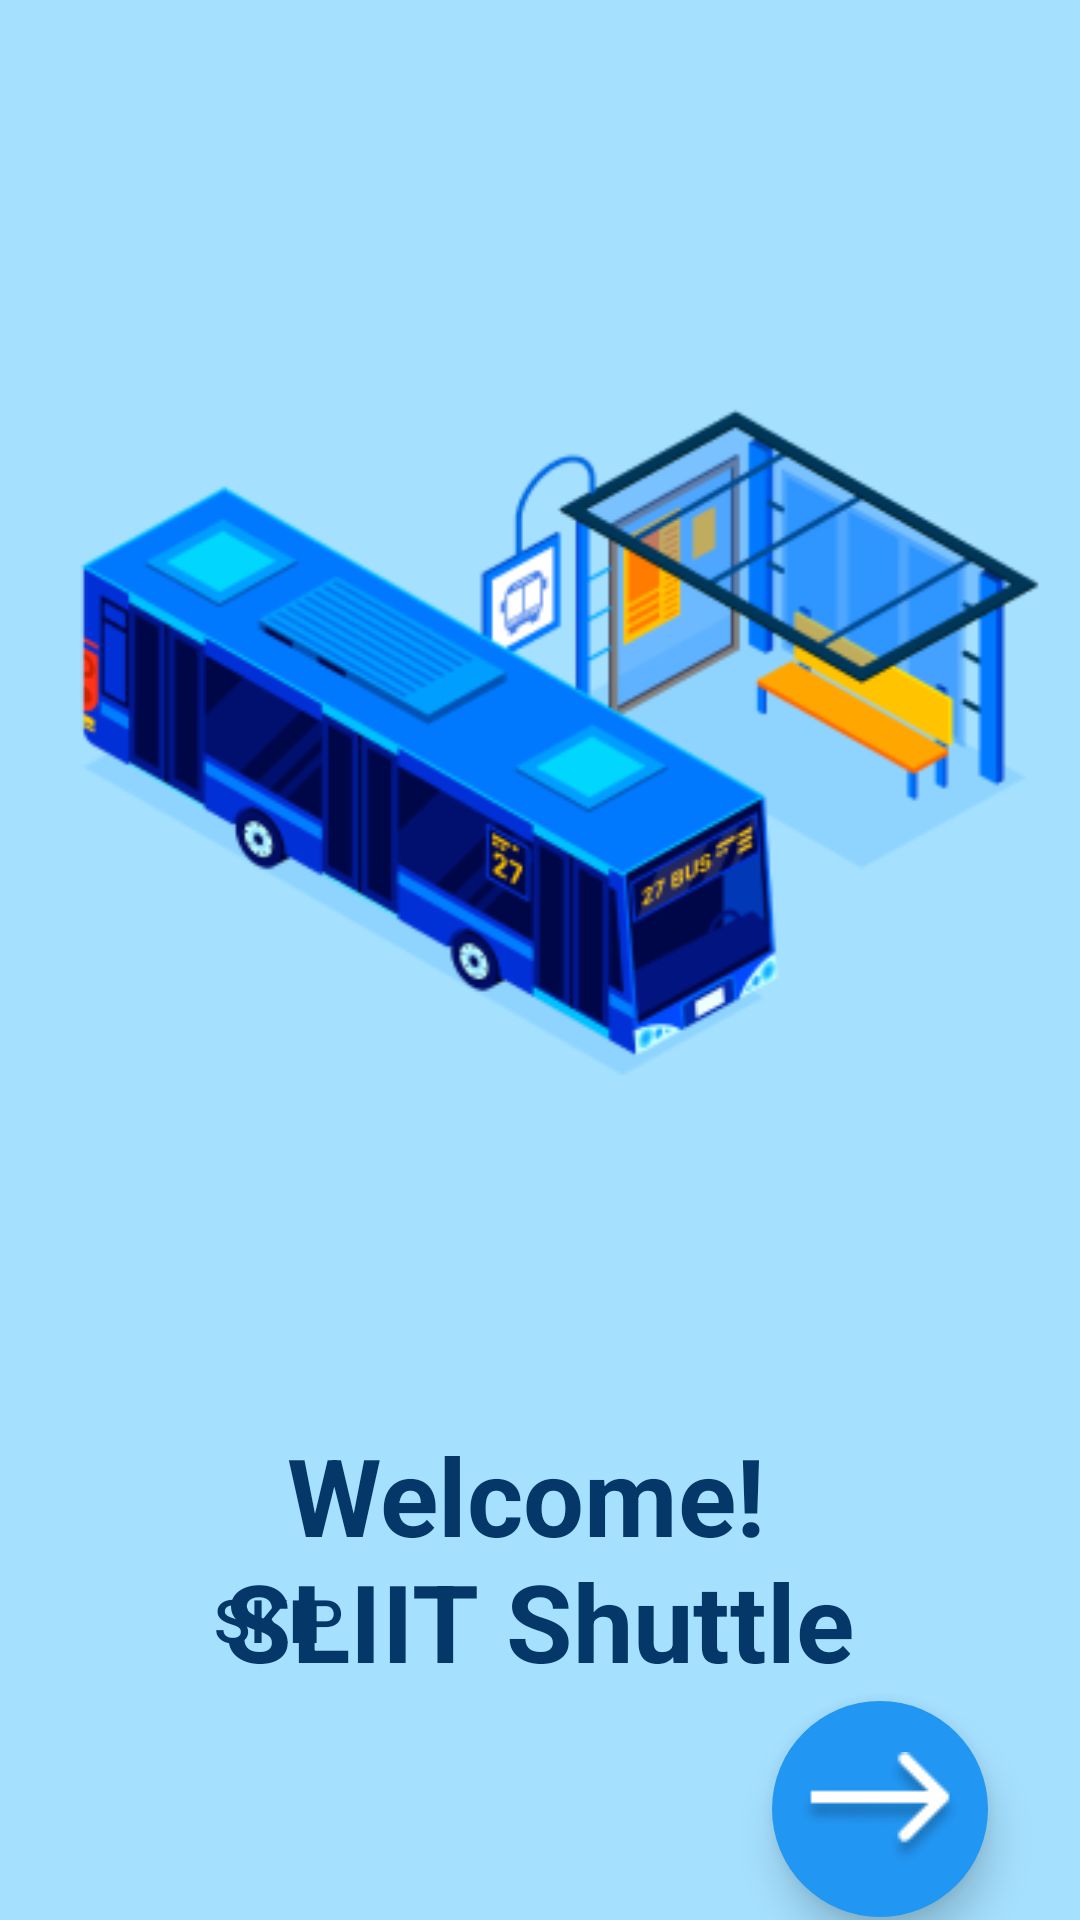

Named icons in this screenshot (1080px×1920px) and their centers, point (x, y):
arrow: point (880, 1809)
